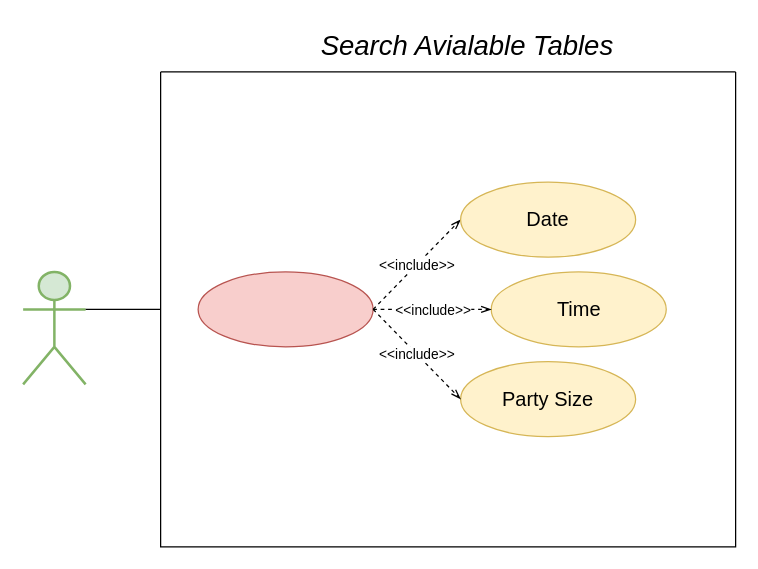
Image size: 758x569. Some labels were removed from this diagram. Each missing label, with the centre of its shape:
Client: point (53, 327)
Find a Table: point (285, 309)
